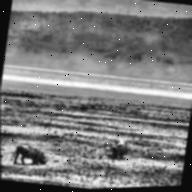boar: (95, 122, 137, 164), (13, 138, 57, 174)
